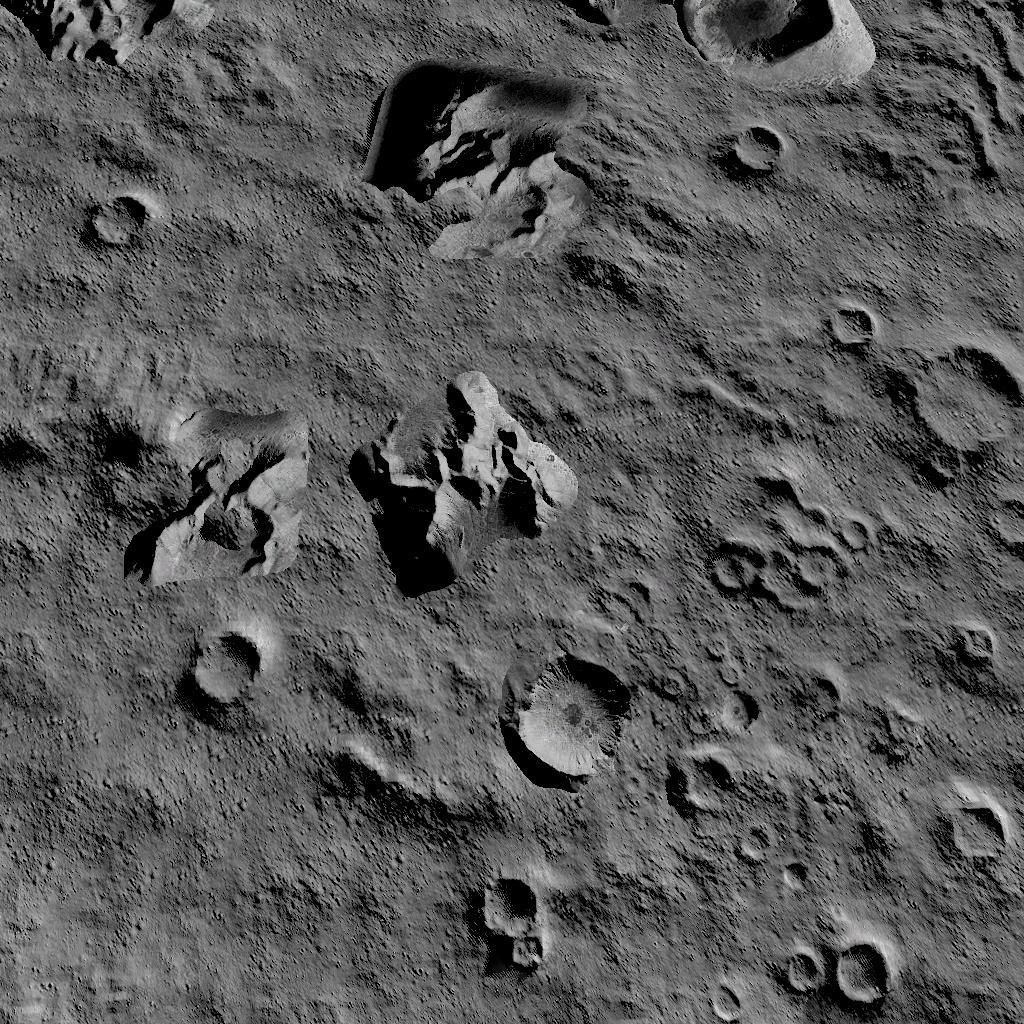Boulders: (2, 356, 314, 606), (349, 70, 617, 284), (340, 373, 586, 605), (5, 0, 230, 88), (324, 742, 484, 846), (536, 0, 666, 53)
Crater: (683, 456, 873, 630), (672, 0, 880, 117), (495, 652, 638, 791), (893, 336, 1022, 486), (165, 622, 278, 748), (767, 934, 897, 1024), (460, 878, 554, 986), (662, 744, 754, 839), (923, 788, 1006, 880), (72, 196, 162, 269), (707, 120, 793, 194), (937, 620, 1009, 679), (808, 302, 872, 362), (973, 496, 1024, 566)
Plan surface: (9, 626, 150, 1024), (172, 856, 436, 1024), (165, 761, 307, 836)
